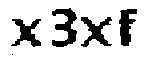3: (49, 7, 77, 48)
f: (117, 5, 139, 48)
x: (79, 14, 114, 50), (8, 15, 43, 48)
